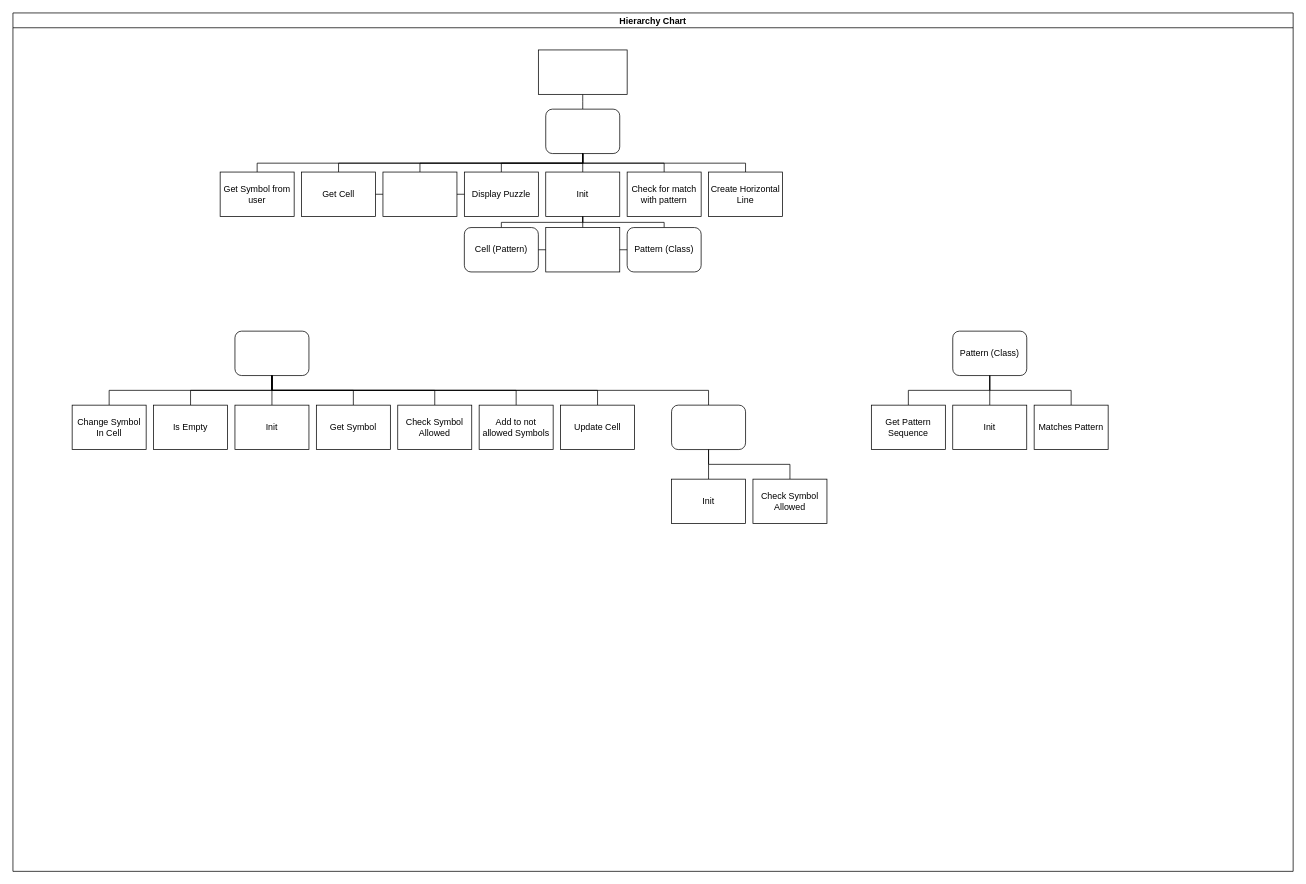
This 1306x884 diagram has some shape labels left out. The box of each missing label's shape, as (x1, y1, x2, y2) in pixels:
Attempt Puzzle: (382, 171, 457, 216)
Blocked Cell (Class): (671, 404, 746, 450)
Cell (Class): (234, 330, 309, 376)
Load Puzzle: (545, 227, 620, 272)
Main: (538, 49, 627, 94)
Puzzle (Class): (545, 108, 620, 154)
